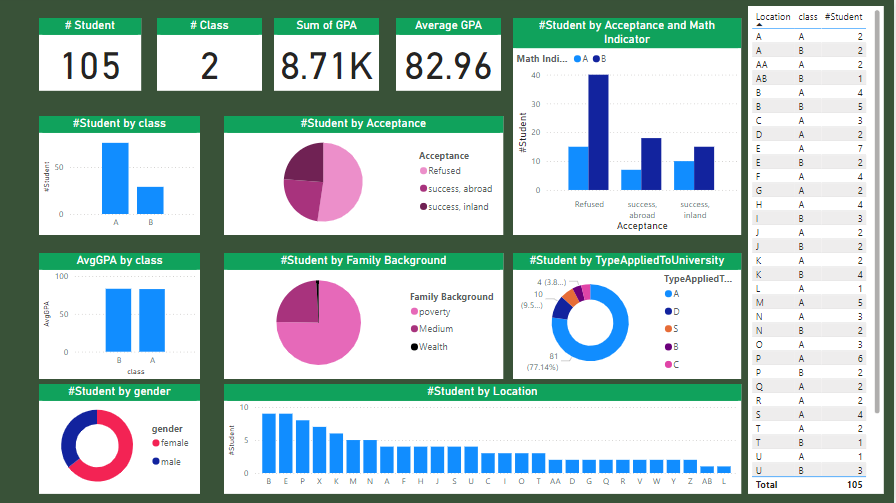

Layout of this report page (visuals, bound fields, positions):
{"tool":"powerbi","page":{"name":"Page 1","canvas":[1280,720],"ordinal":0},"visuals":[{"type":"card","title":"# Student ","fields":{"Values":["Measure.#Student"]},"box":[58.6,25.7,145.7,104.3],"z":0},{"type":"card","title":"Sum of GPA","fields":{"Values":["Sum(Students data.GPA)"]},"box":[394.3,25.7,150,104.3],"z":1000},{"type":"card","title":"Average GPA","fields":{"Values":["Measure.AvgGPA"]},"box":[568.6,25.7,150,104.3],"z":2000},{"type":"donutChart","fields":{"Category":["Students data.gender"],"Y":["Measure.#Student"]},"box":[58.6,548.6,230,157.1],"z":3000},{"type":"clusteredColumnChart","fields":{"Y":["Measure.#Student"],"Category":["Students data.class"]},"box":[58.6,165.7,230,170],"z":4000},{"type":"card","title":"# Class","fields":{"Values":["Measure.#Class"]},"box":[227.1,25.7,150,104.3],"z":5000},{"type":"clusteredColumnChart","fields":{"Category":["Students data.class"],"Y":["Measure.AvgGPA"]},"box":[58.6,361.4,230,180],"z":6000},{"type":"clusteredColumnChart","fields":{"Category":["Students data.Location"],"Y":["Measure.#Student"]},"box":[322.9,548.6,738.6,157.1],"z":7000},{"type":"tableEx","fields":{"Values":["Students data.Location","Students data.class","Measure.#Student"]},"box":[1071.4,8.6,194.3,697.1],"z":8000},{"type":"pieChart","fields":{"Category":["Students data.Family Background"],"Y":["Measure.#Student"]},"box":[322.9,361.4,398.6,180],"z":9000},{"type":"donutChart","fields":{"Category":["Students data.TypeAppliedToUniversity"],"Y":["Measure.#Student"]},"box":[735.7,361.4,325.7,180],"z":10000},{"type":"pieChart","fields":{"Category":["Students data.Acceptance"],"Y":["Measure.#Student"]},"box":[322.9,165.7,398.6,170],"z":11000},{"type":"clusteredColumnChart","fields":{"Y":["Measure.#Student"],"Category":["Students data.Acceptance"],"Series":["Students data.Math Indicator"]},"box":[735.7,25.7,325.7,310],"z":12000}]}

Visuals, with their boxes in screenshot pixels (x1, y1, x2, y2), scaled from the page's 1280x720 canvas onto the 896x503 screenshot:
"# Student " card: box=[41, 18, 143, 91]
"Sum of GPA" card: box=[276, 18, 381, 91]
"Average GPA" card: box=[398, 18, 503, 91]
donutChart - Students data.gender x Measure.#Student: box=[41, 383, 202, 493]
clusteredColumnChart - Measure.#Student x Students data.class: box=[41, 116, 202, 235]
"# Class" card: box=[159, 18, 264, 91]
clusteredColumnChart - Students data.class x Measure.AvgGPA: box=[41, 252, 202, 378]
clusteredColumnChart - Students data.Location x Measure.#Student: box=[226, 383, 743, 493]
tableEx - Students data.Location x Students data.class: box=[750, 6, 886, 493]
pieChart - Students data.Family Background x Measure.#Student: box=[226, 252, 505, 378]
donutChart - Students data.TypeAppliedToUniversity x Measure.#Student: box=[515, 252, 743, 378]
pieChart - Students data.Acceptance x Measure.#Student: box=[226, 116, 505, 235]
clusteredColumnChart - Measure.#Student x Students data.Acceptance: box=[515, 18, 743, 235]
